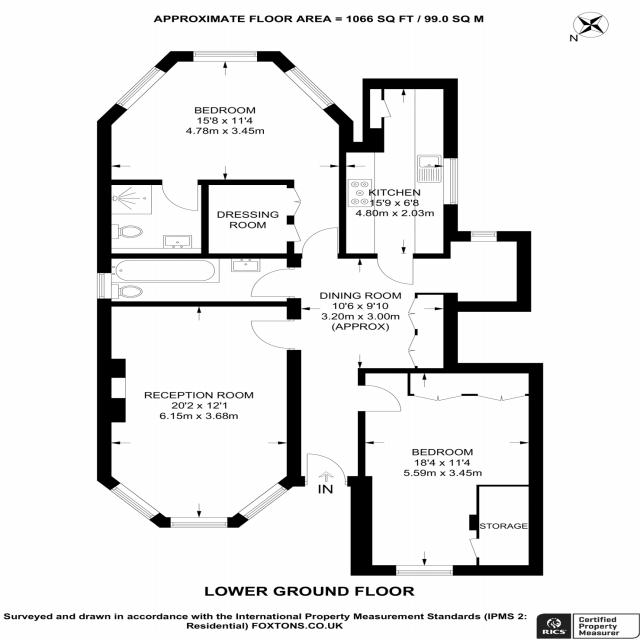DOOR: (246, 265, 302, 300), (304, 450, 349, 486), (157, 179, 201, 213), (299, 223, 340, 259), (375, 253, 417, 288), (358, 384, 404, 413)
ROOM: (299, 231, 531, 486), (95, 51, 355, 261), (98, 299, 306, 528), (347, 363, 544, 576), (339, 78, 459, 286)
WINDOW: (111, 64, 169, 114), (281, 64, 339, 113), (106, 479, 165, 524), (235, 481, 290, 523), (192, 50, 259, 64), (441, 156, 459, 207), (393, 563, 455, 577), (95, 271, 114, 299), (469, 230, 499, 243)
